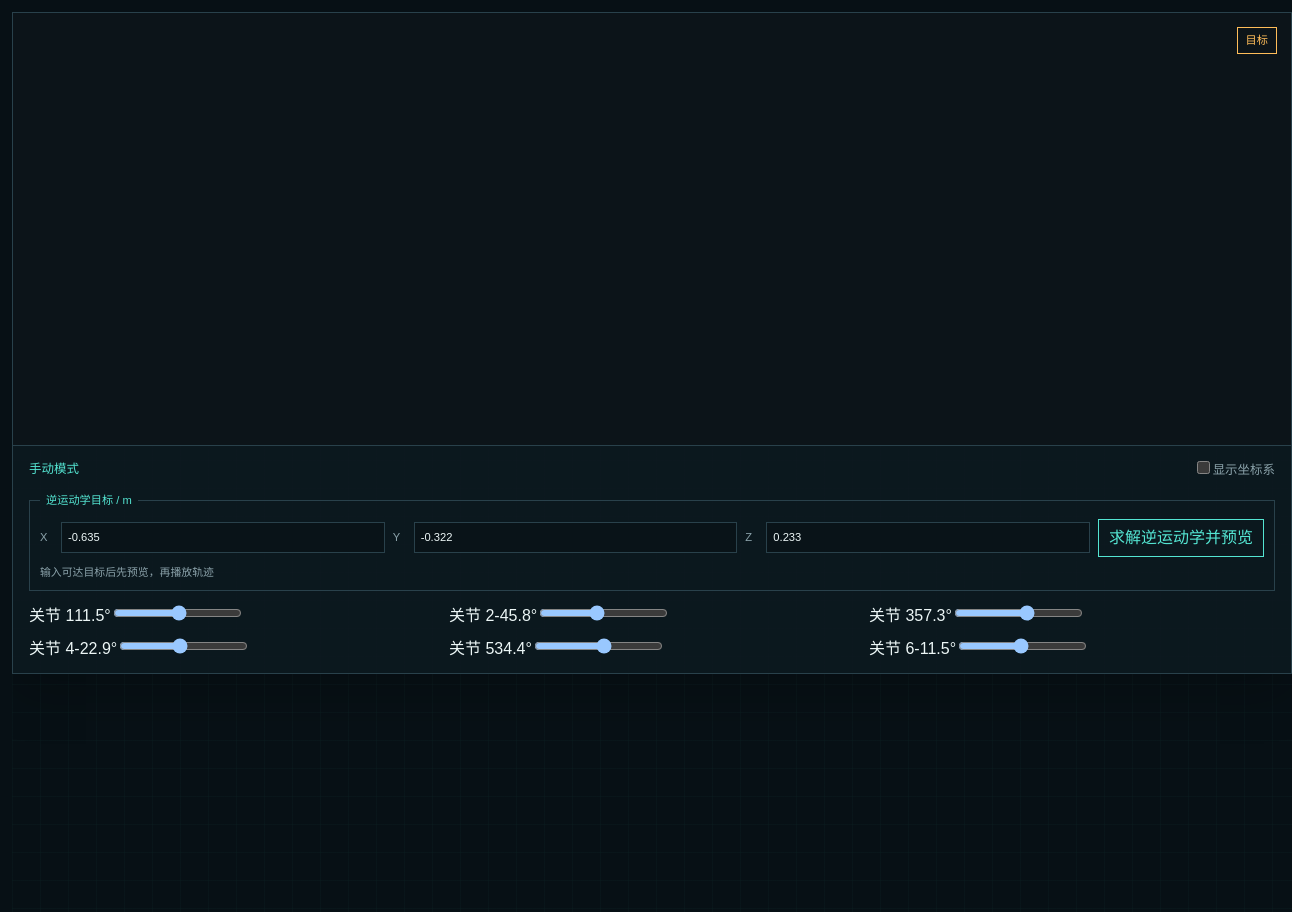
Test: RobotScene › exposes six labelled joints, frame toggle, target marker, and status
expect the text "目标" is shown: met, box [1237,27,1277,54]
expect the message named "仿真状态" reads "手动模式": met, box [29,462,79,476]
Click the checkbox labelled "显示坐标系".
click(1203, 468)  # box [1197,461,1210,474]
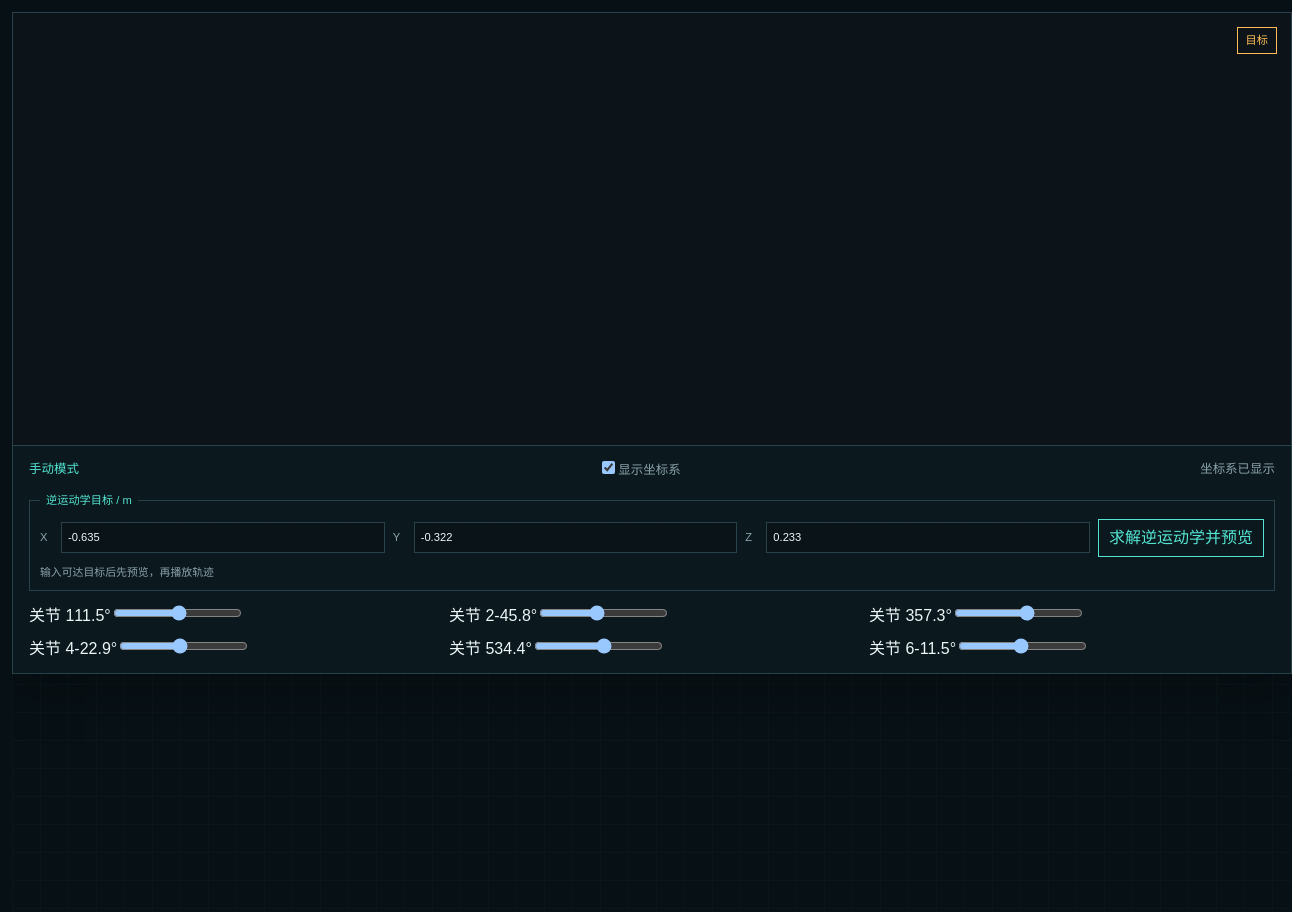
expect the text "坐标系已显示" is shown: met, box [1200,460,1275,478]
